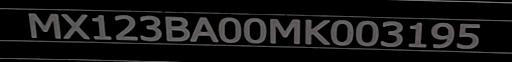letter: (268, 15, 304, 45), (24, 11, 62, 39), (301, 16, 333, 46), (59, 11, 91, 39), (189, 15, 221, 43), (110, 12, 140, 41), (352, 18, 382, 46), (428, 19, 456, 48), (454, 20, 482, 49), (162, 13, 192, 40), (136, 13, 164, 41), (215, 15, 243, 43), (328, 17, 356, 45), (378, 18, 406, 46), (242, 16, 268, 45), (89, 12, 113, 40), (406, 19, 428, 48)
